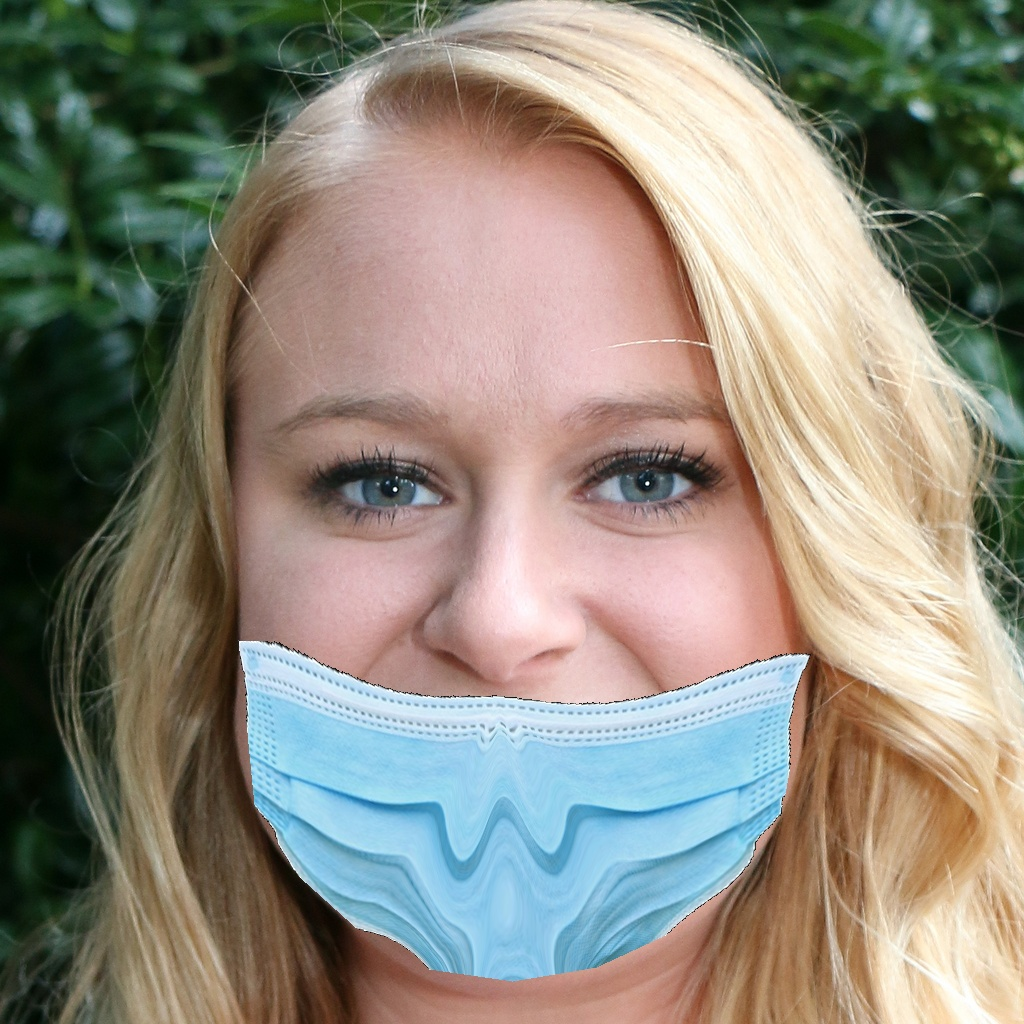mascarilla_mal_puesta: (189, 390, 872, 975)
